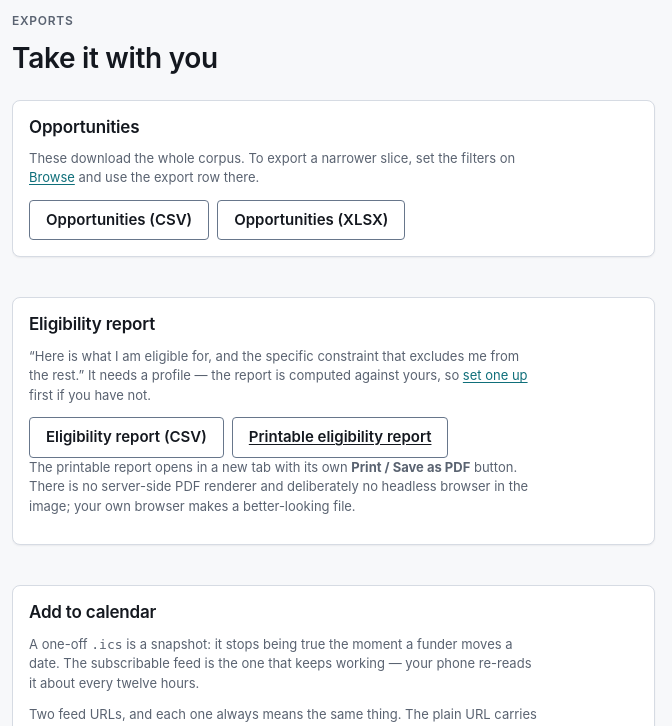
Test case: ExportsRoute › what actually lands on disk › prints the server’s own refusal on the page and saves nothing
Click the button "Eligibility report (CSV)" at coordinates (126, 438), box [29, 417, 224, 458]
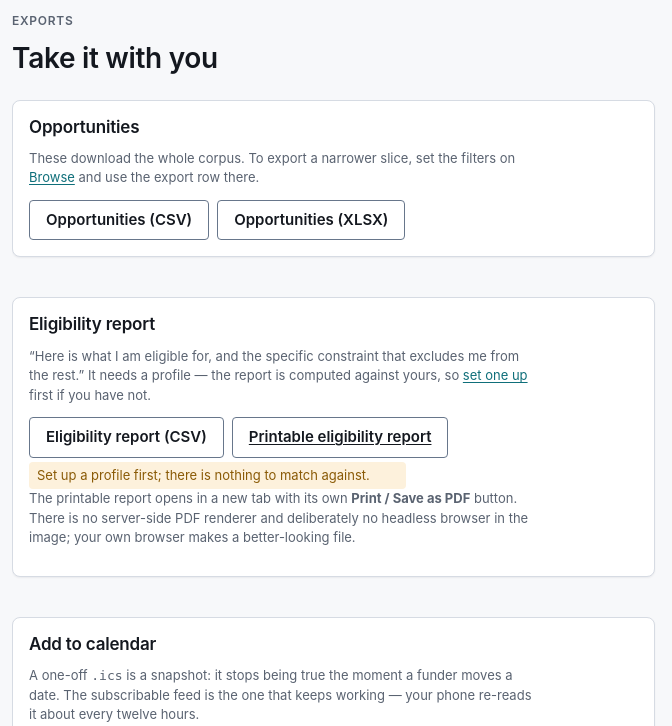
Expected: the message shows "Set up a profile first", [37, 467, 370, 483]
